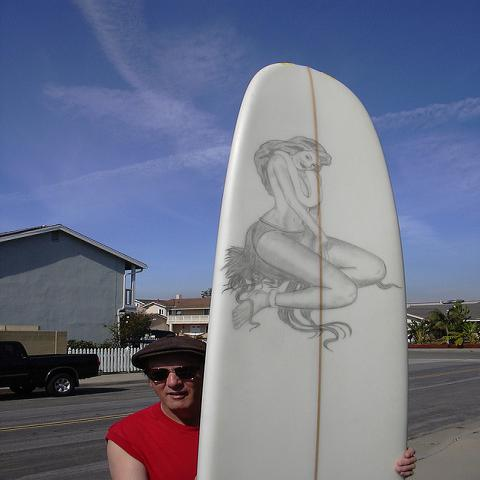truck: (0, 340, 103, 398)
